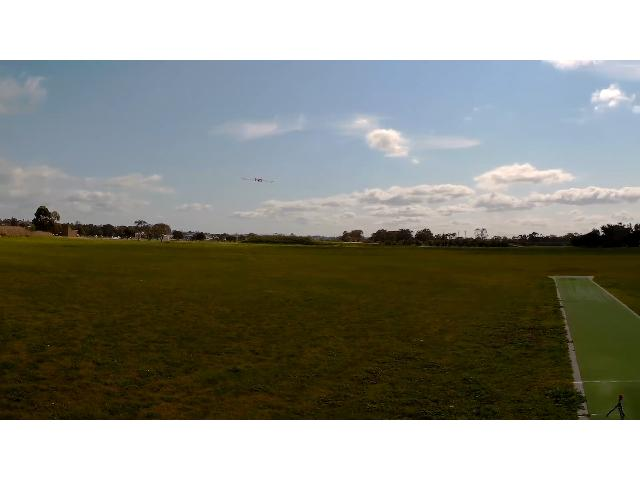Anti-Drone: (241, 178, 275, 184)
